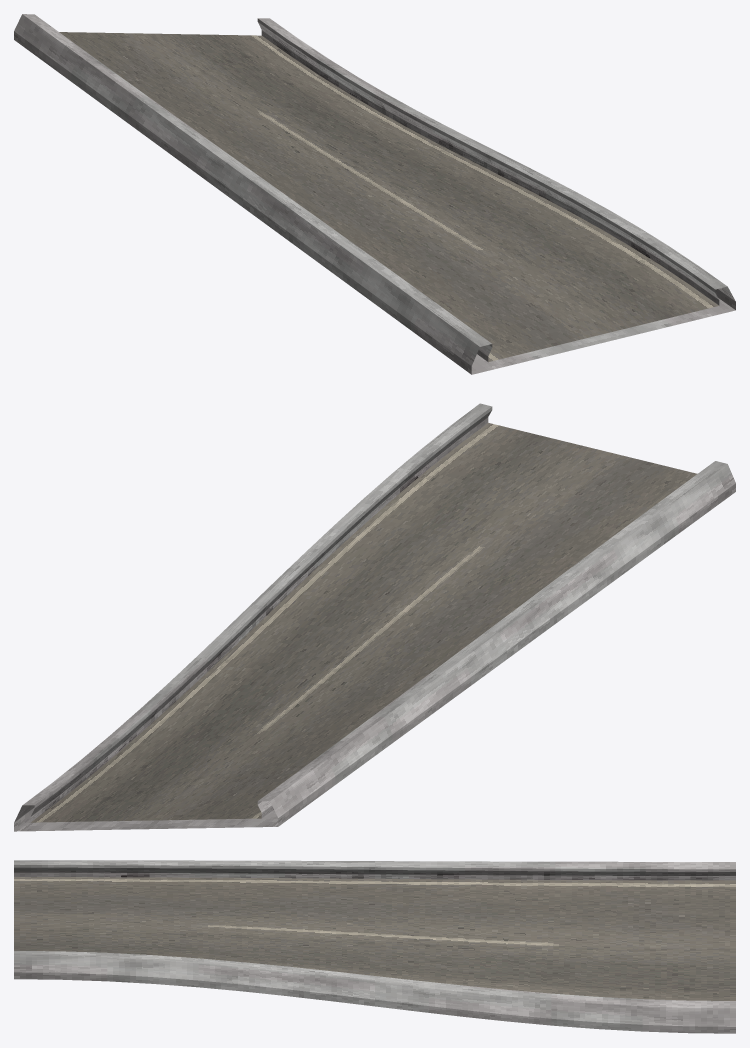
Rendered from straight3.glb.
The picture shows the model from 3 angles, top to bottom: view 1: azimuth 30°, elevation 25°; view 2: azimuth 150°, elevation 25°; view 3: azimuth 270°, elevation 25°; orthographic projection. The views are drawn at different scales.
Visible parts, largest first — view 1: road-Straight-Flat-HalfBankedRight-Down1-Center-Size3; view 2: road-Straight-Flat-HalfBankedRight-Down1-Center-Size3; view 3: road-Straight-Flat-HalfBankedRight-Down1-Center-Size3.
Part boxes in pixels (left/top/right/bottom): road-Straight-Flat-HalfBankedRight-Down1-Center-Size3: left=14, top=14, right=735, bottom=374; road-Straight-Flat-HalfBankedRight-Down1-Center-Size3: left=14, top=403, right=735, bottom=831; road-Straight-Flat-HalfBankedRight-Down1-Center-Size3: left=14, top=860, right=735, bottom=1033.
Bounding box in the file's own units: 1 × 0.3438 × 3.
2 materials, 2 textured.
